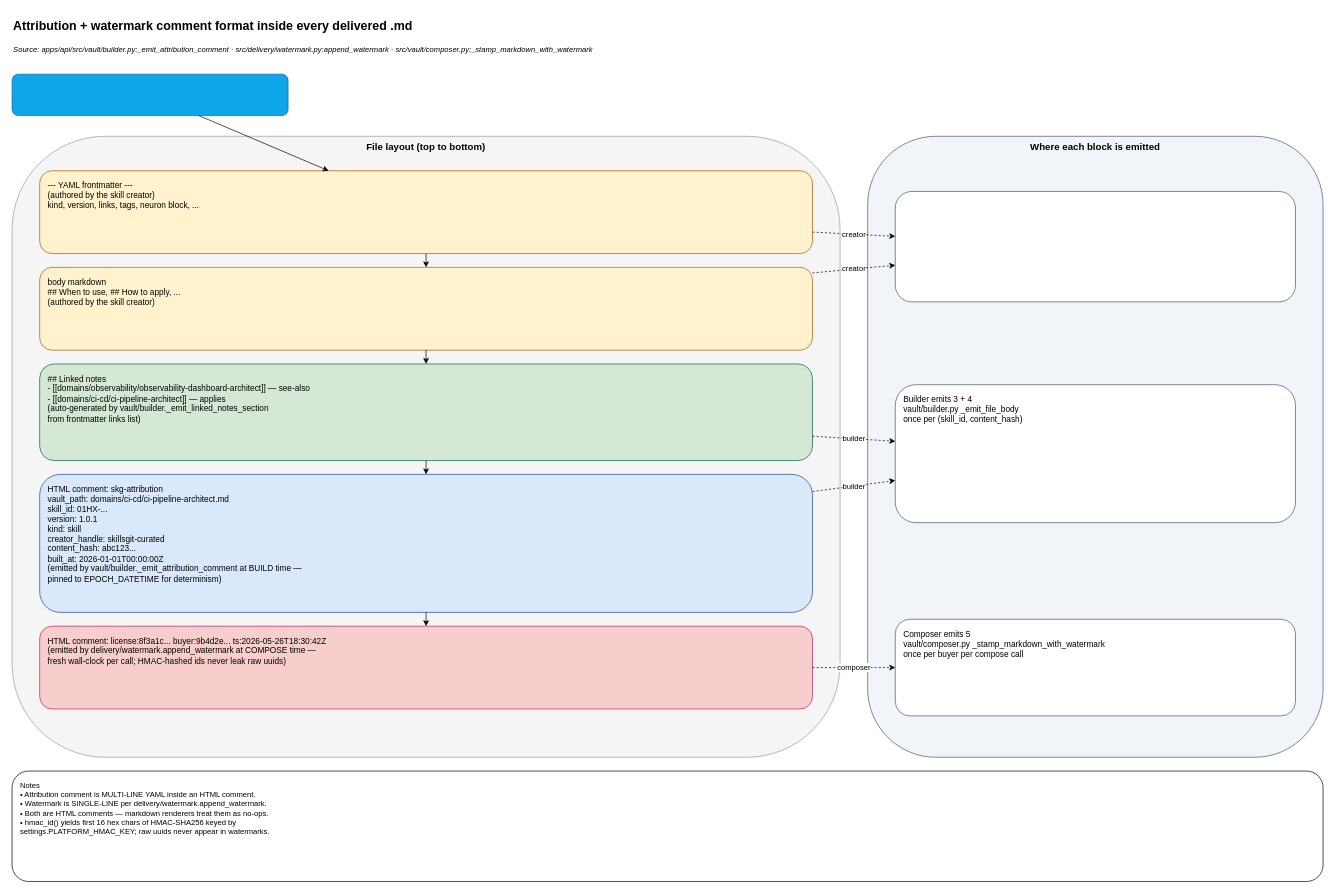
The diagram is 1335 pixels wide and 894 high, and some of its shapes have lost their labels. Each missing label, with the centre of its shape:
"Every delivered .md file" goes at pixel 149 94.
"Skill creator writes 1 + 2 during authoring; immutable per release" goes at pixel 1095 246.
